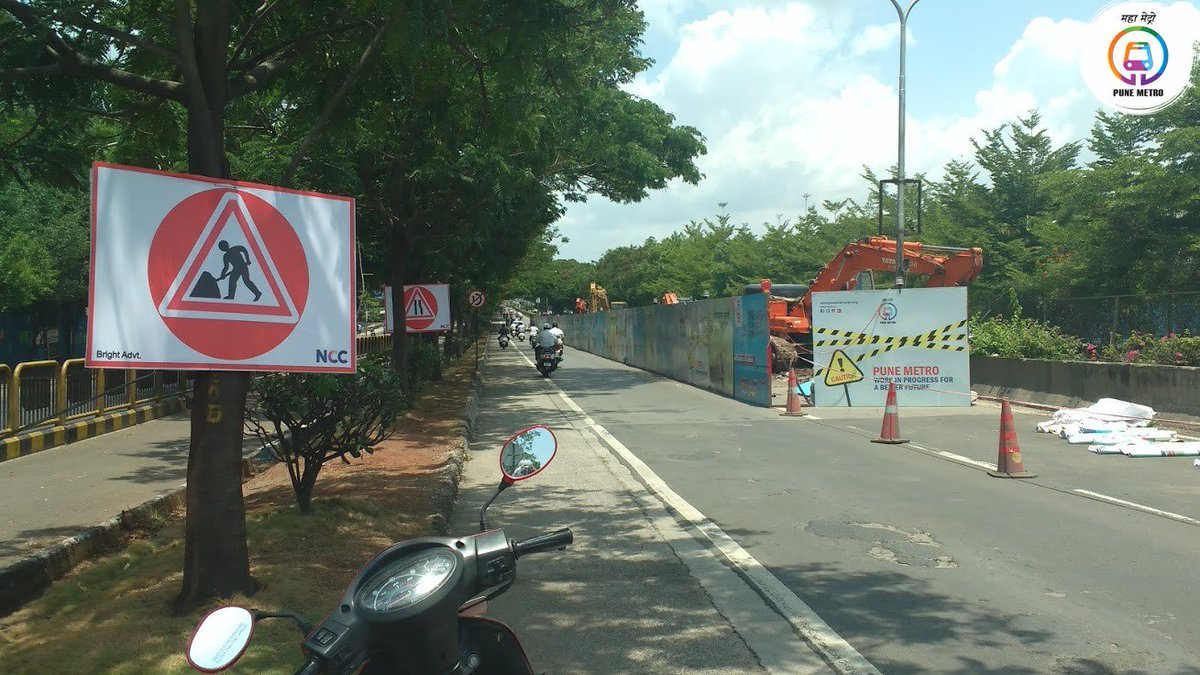bike: (534, 324, 558, 380), (499, 319, 510, 351), (530, 321, 542, 349), (516, 320, 526, 344)
caution: (147, 186, 312, 360), (825, 348, 866, 389)
narrow-road: (399, 286, 442, 329)
